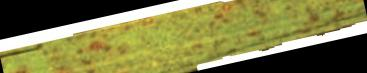leaf_smut: (55, 3, 287, 67)
